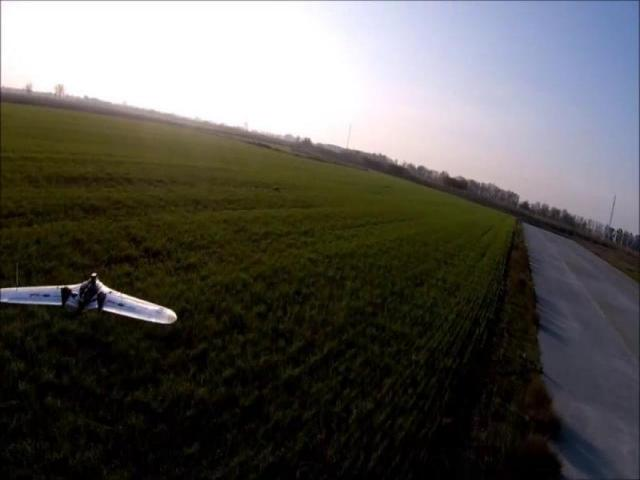hedef: (0, 244, 203, 361)
